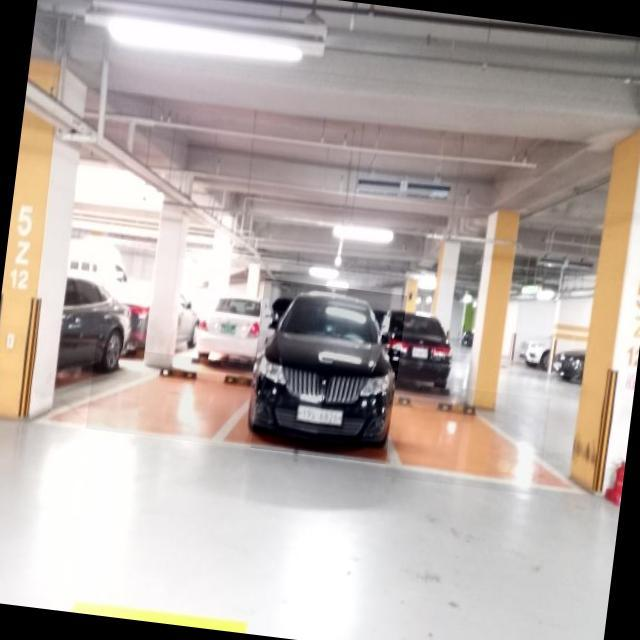empty: (384, 380, 551, 495), (85, 344, 260, 448)
occupied: (244, 278, 407, 464)
